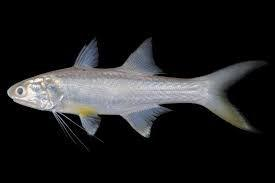Fourfinger Threadfish: (6, 37, 263, 152)
